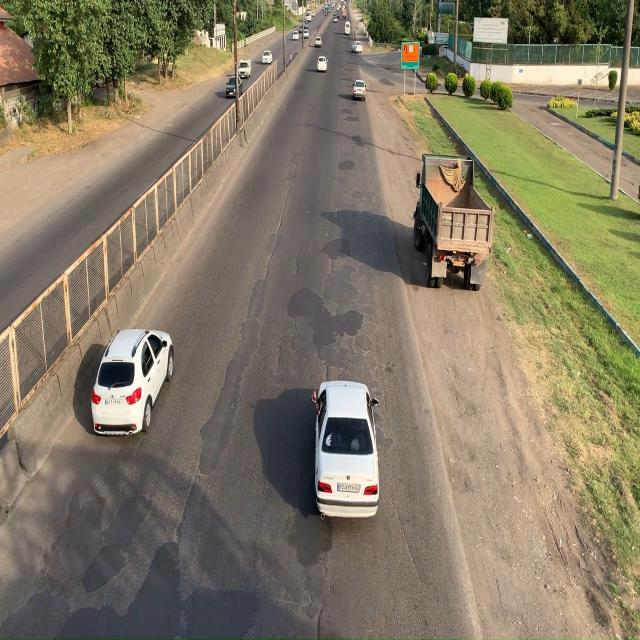Truck: (414, 148, 499, 290)
cars: (311, 378, 379, 528), (91, 326, 176, 445)
